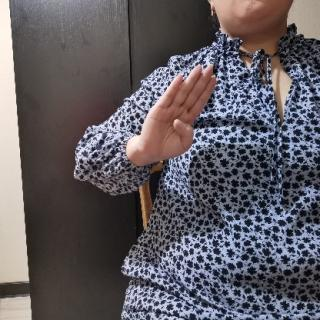KAAF: (139, 60, 219, 166)
